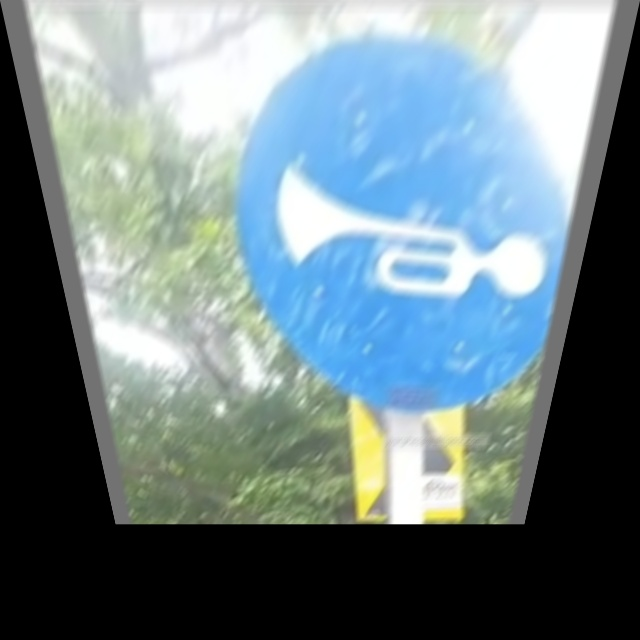Compulsory_Sound_Horn: (240, 89, 586, 377)
